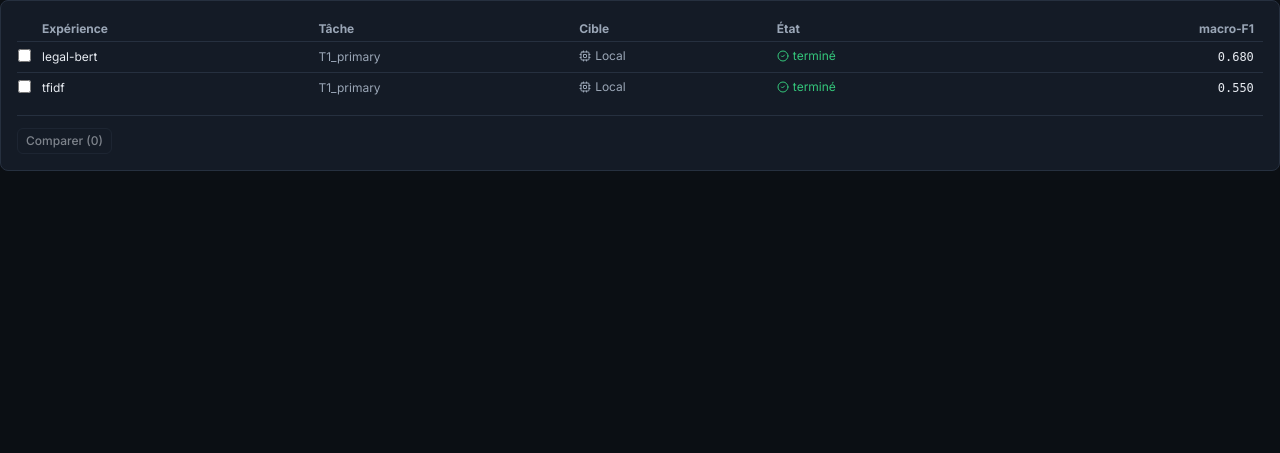
Test: RunList — comparaison › une comparaison valide rend la figure F9
The width and height of the screenshot is (1280, 453).
Step 1. Click the checkbox with test id "run-select-1" → (24, 55), box [18, 48, 31, 62]
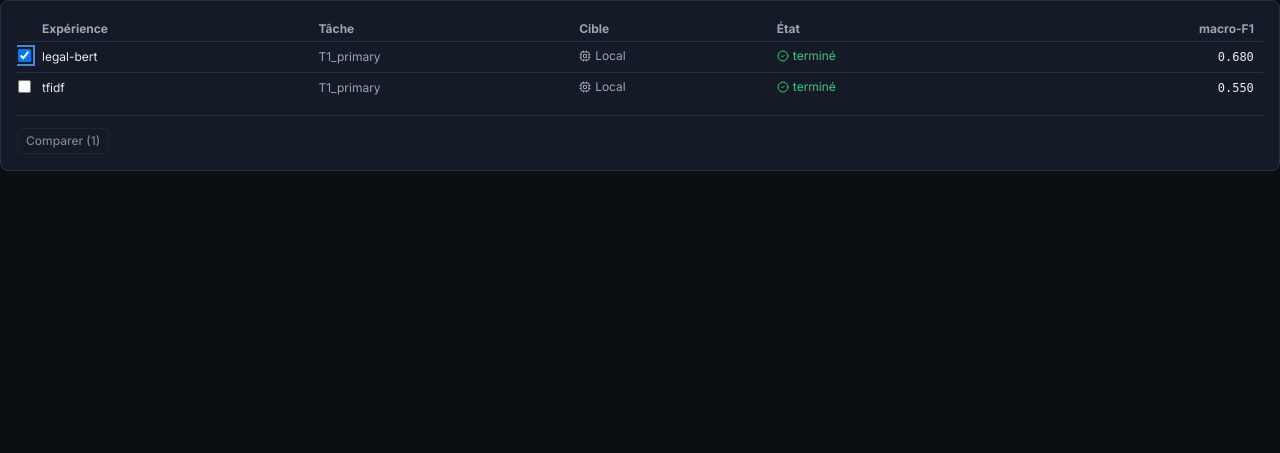
Step 2. Click the checkbox with test id "run-select-2" → (24, 86), box [18, 80, 31, 92]
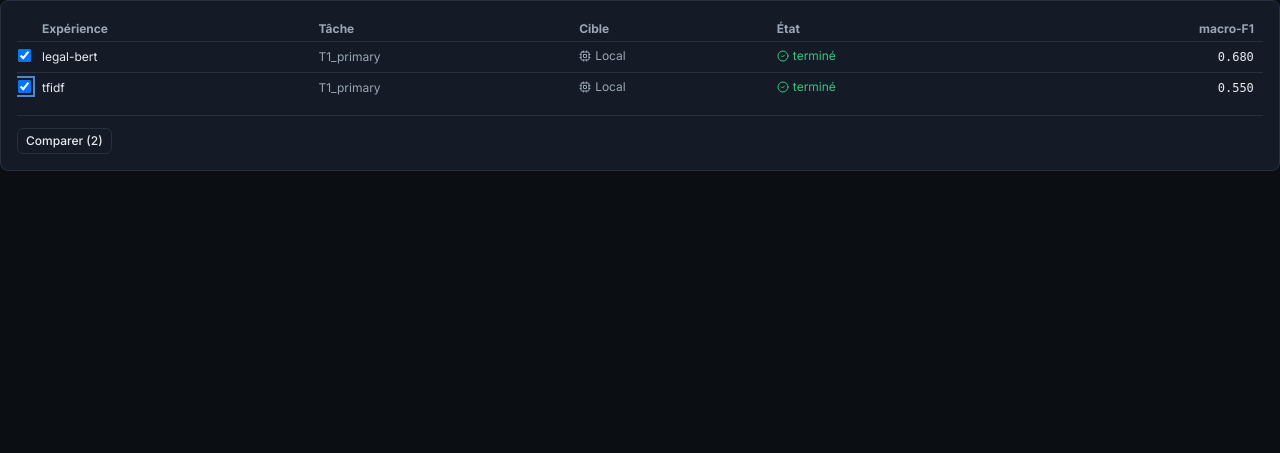
Step 3. Click the button with test id "run-compare-button" → (64, 141), box [17, 128, 112, 154]
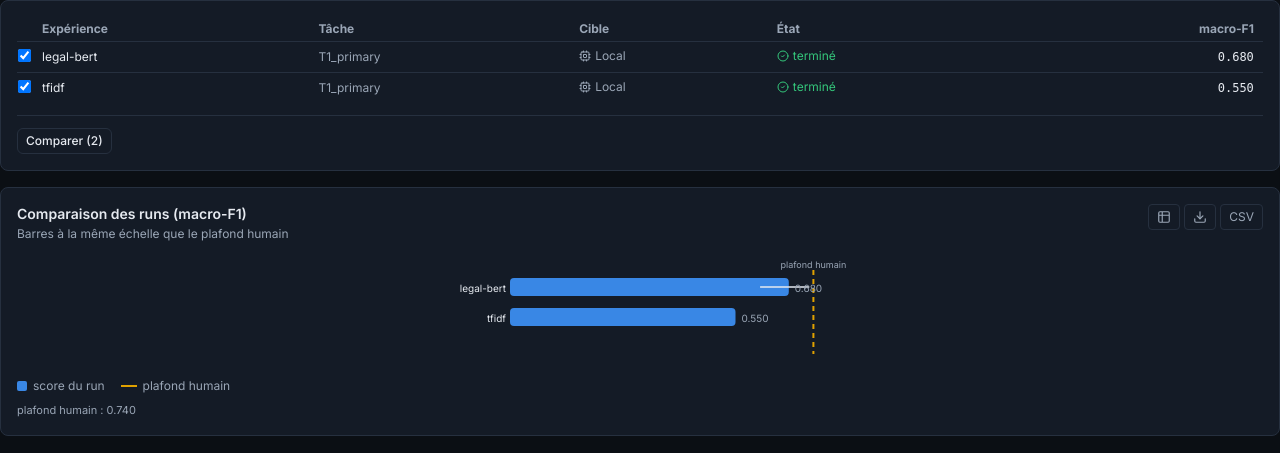
Check: the element with test id "figure-run-comparison" is shown, box [0, 187, 1279, 436]
